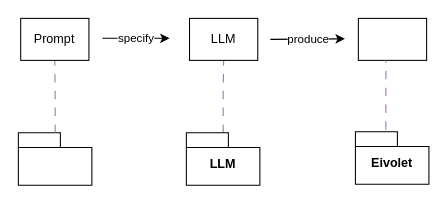
The diagram is 447 pixels wide and 204 high, and some of its shapes have lost their labels. The shapes that lost their labels are listed below. From the top down, each one's centre as x and y in pixels, then its label:
the point at 392,38: Result
the point at 54,158: Modeler
